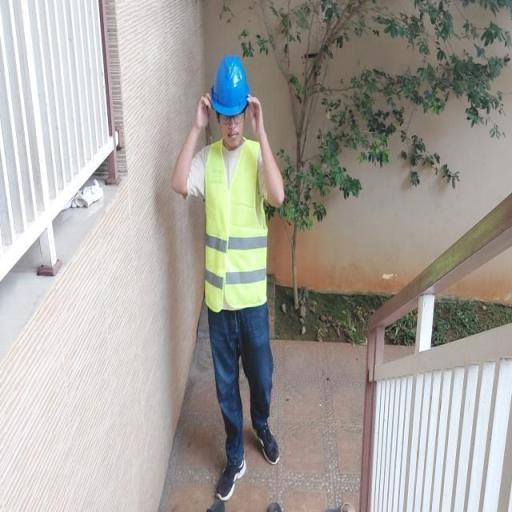Person: (180, 25, 320, 500)
gloves: (74, 173, 108, 213), (60, 178, 98, 212)
helmet: (200, 48, 262, 122)
vest: (191, 124, 280, 320)
